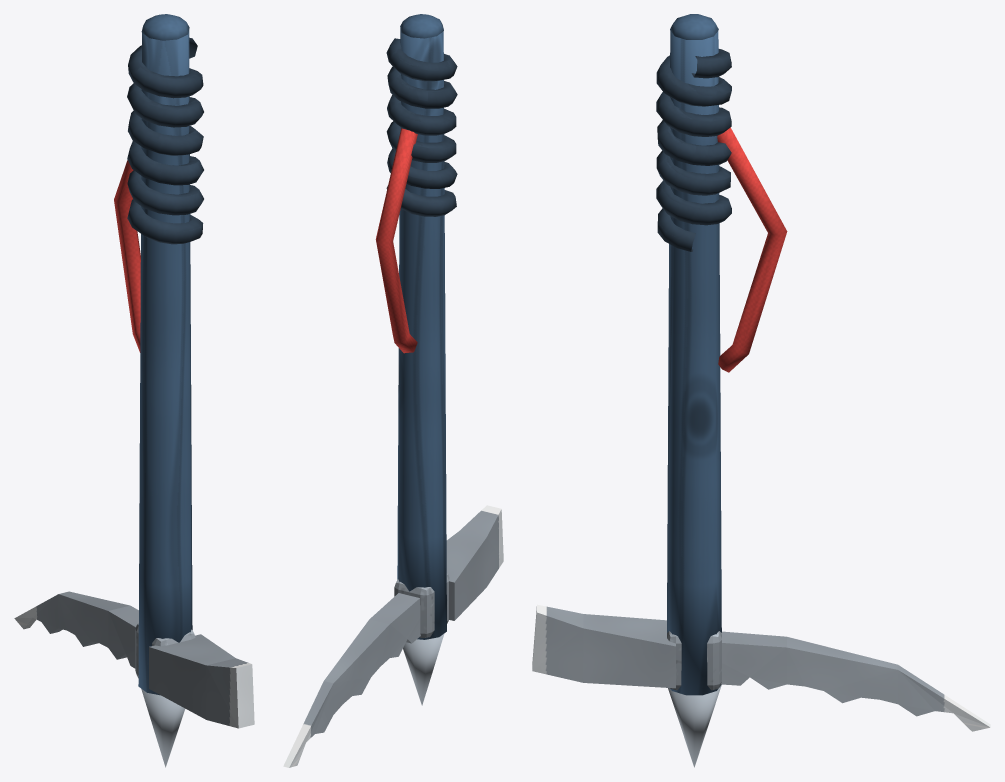
Rendered from tool_ice_pick.glb.
3 renders of one model, left to right at view 1: azimuth 30°, elevation 25°; view 2: azimuth 150°, elevation 25°; view 3: azimuth 270°, elevation 25°, orthographic. The views are drawn at different scales.
Parts seen in each view (by area): view 1: Tool; view 2: Tool; view 3: Tool.
Part boxes in pixels (x1,y1,x2,y2): Tool: (14, 14, 254, 767); Tool: (283, 14, 503, 767); Tool: (532, 14, 990, 767).
Size of the model in its own units: 0.0839 by 0.8946 by 0.495.
1 material, 1 textured.
